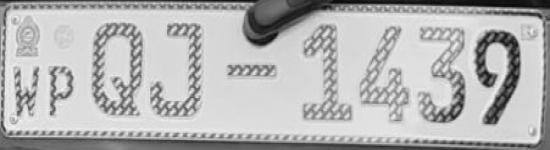-: (224, 58, 279, 83)
1: (295, 20, 358, 128)
3: (415, 17, 470, 128)
4: (356, 18, 415, 130)
9: (469, 18, 529, 134)
J: (148, 15, 208, 125)
P: (45, 60, 75, 121)
Q: (86, 16, 146, 122)
W: (11, 61, 43, 123)
